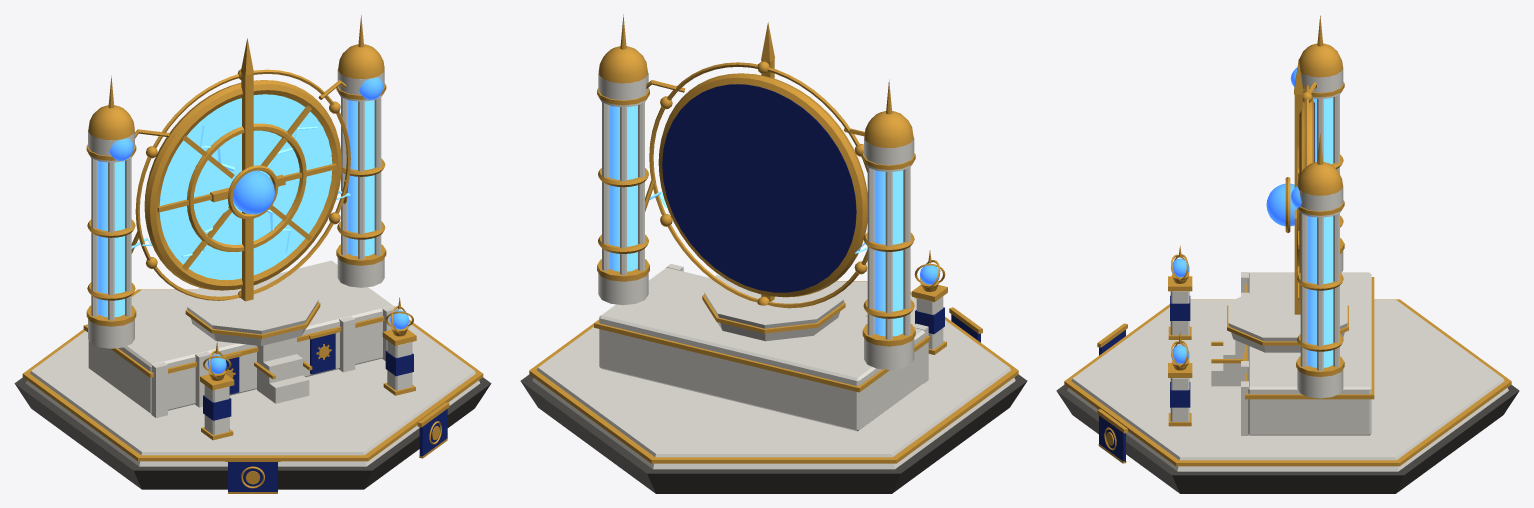
Rendered from zeus_structure_aegis_conductor.glb.
3 renders of one model, left to right at view 1: azimuth 30°, elevation 25°; view 2: azimuth 150°, elevation 25°; view 3: azimuth 270°, elevation 25°, orthographic. The views are drawn at different scales.
Parts seen in each view (by area): view 1: zeus_structure_aegis_conductor; view 2: zeus_structure_aegis_conductor; view 3: zeus_structure_aegis_conductor.
Part boxes in pixels (x1=…): zeus_structure_aegis_conductor: x1=14, y1=15, x2=491, y2=493; zeus_structure_aegis_conductor: x1=520, y1=14, x2=1027, y2=493; zeus_structure_aegis_conductor: x1=1056, y1=15, x2=1519, y2=493.
Bounding box in the file's own units: 1.49 × 1.46 × 1.72.
Materials: 1 (1 with a texture image).
